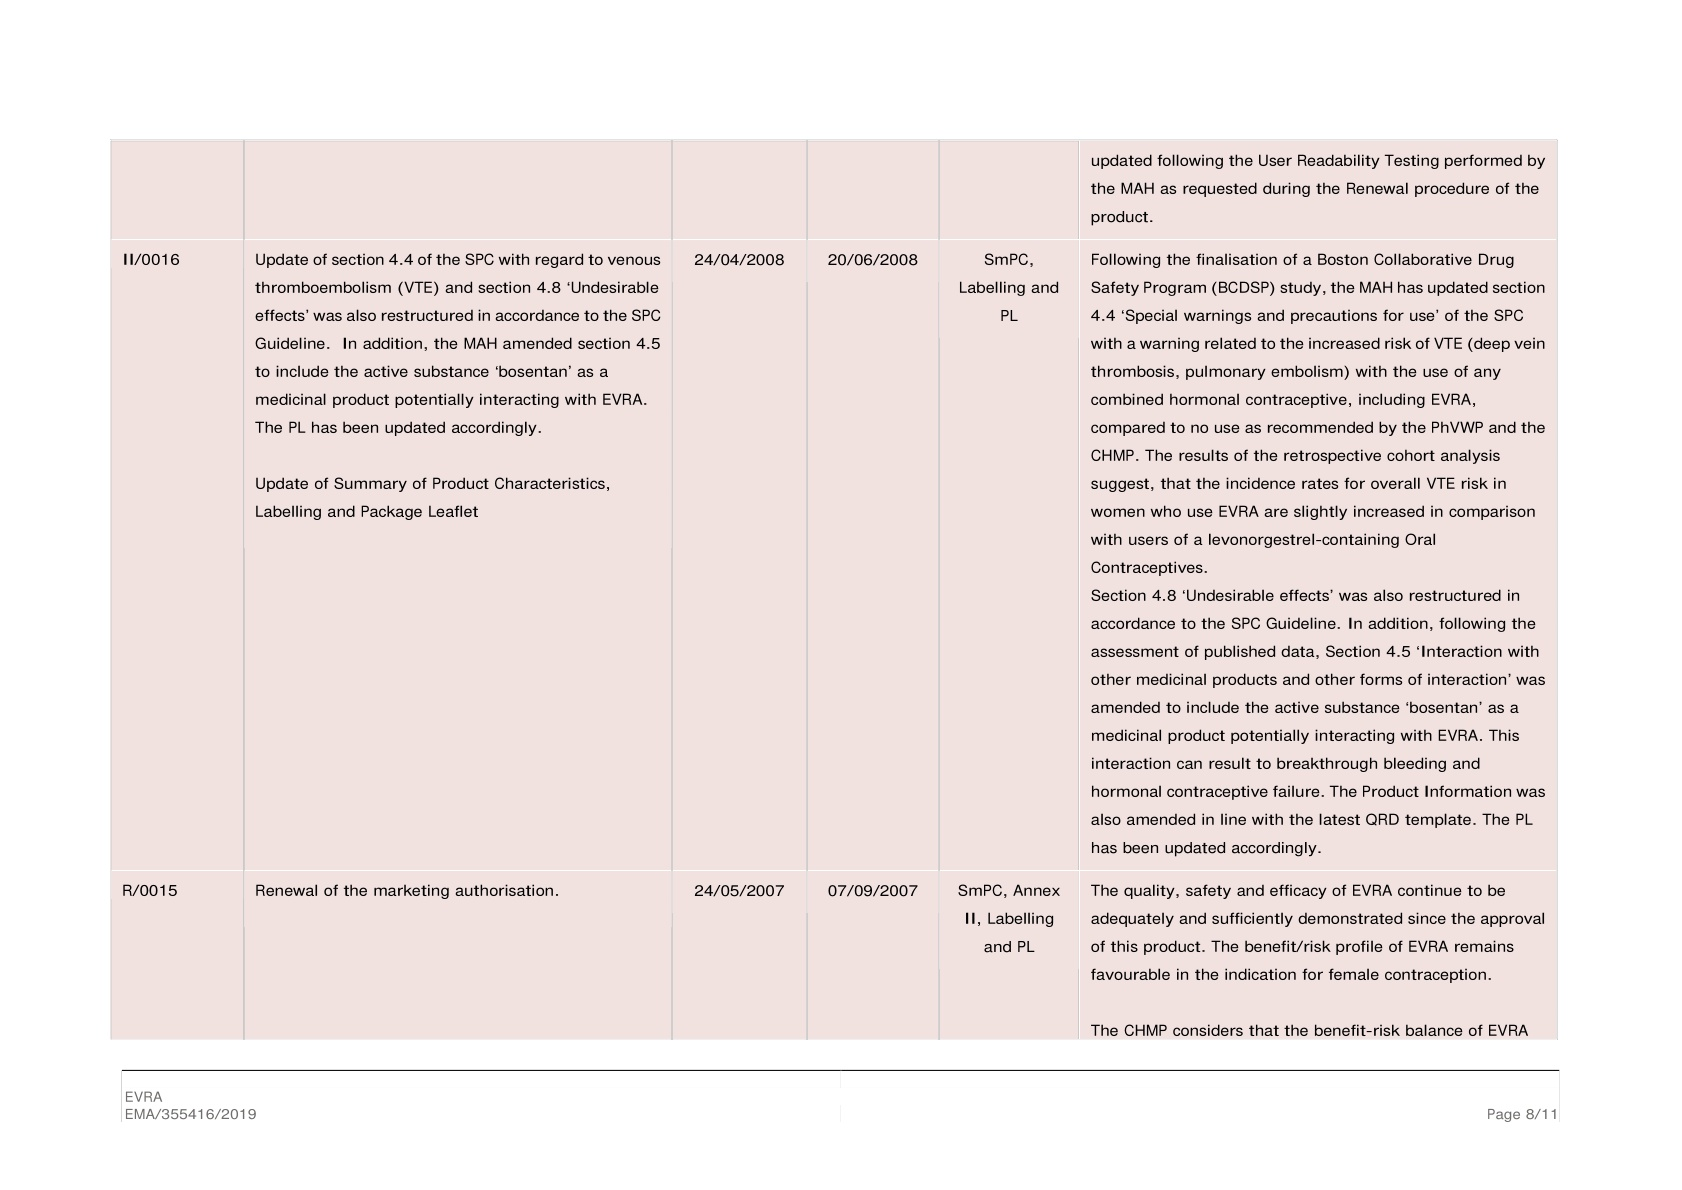full_lined: (109, 138, 1558, 1041)
